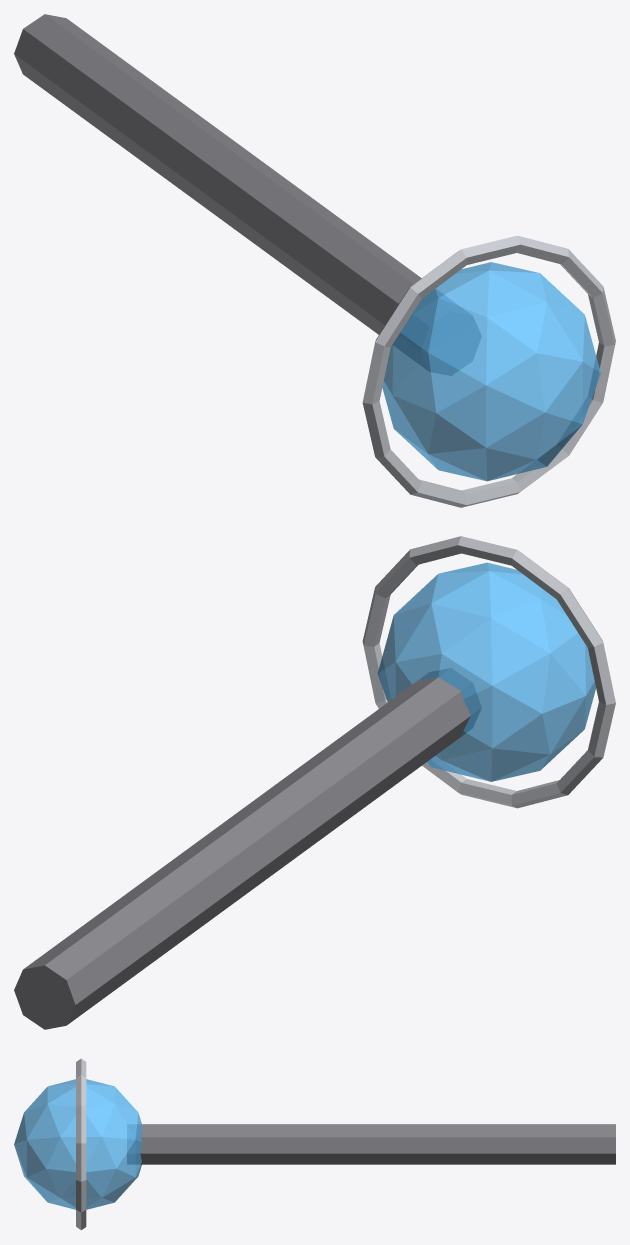
Rendered from underwater_glow_lamp.glb.
3 renders of one model, top to bottom at view 1: azimuth 30°, elevation 25°; view 2: azimuth 150°, elevation 25°; view 3: azimuth 270°, elevation 25°, orthographic. The views are drawn at different scales.
Parts seen in each view (by area): view 1: post, light_orb, lamp_cage; view 2: post, light_orb, lamp_cage; view 3: post, light_orb, lamp_cage.
Boxes of the visible parts, <box> form: post: <box>14,14,481,375</box>; light_orb: <box>382,262,600,481</box>; lamp_cage: <box>362,235,615,507</box>; post: <box>14,668,481,1029</box>; light_orb: <box>377,562,595,781</box>; lamp_cage: <box>362,536,615,808</box>; post: <box>127,1124,615,1164</box>; light_orb: <box>14,1079,142,1209</box>; lamp_cage: <box>76,1058,86,1230</box>.
Bounding box in the file's own units: 0.576 × 0.5616 × 1.97.
